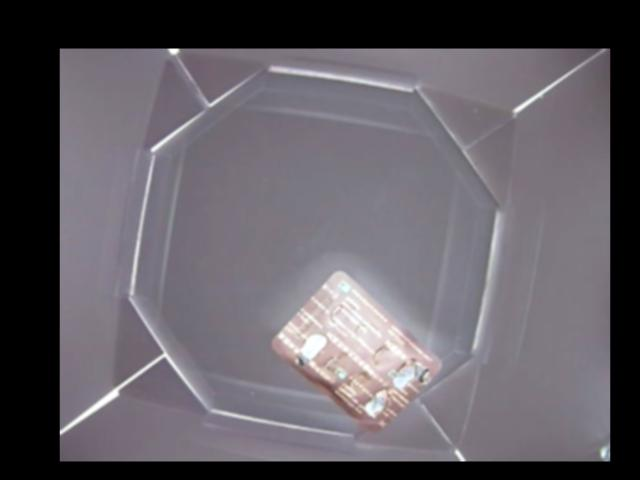Medicine: (270, 268, 439, 434)
